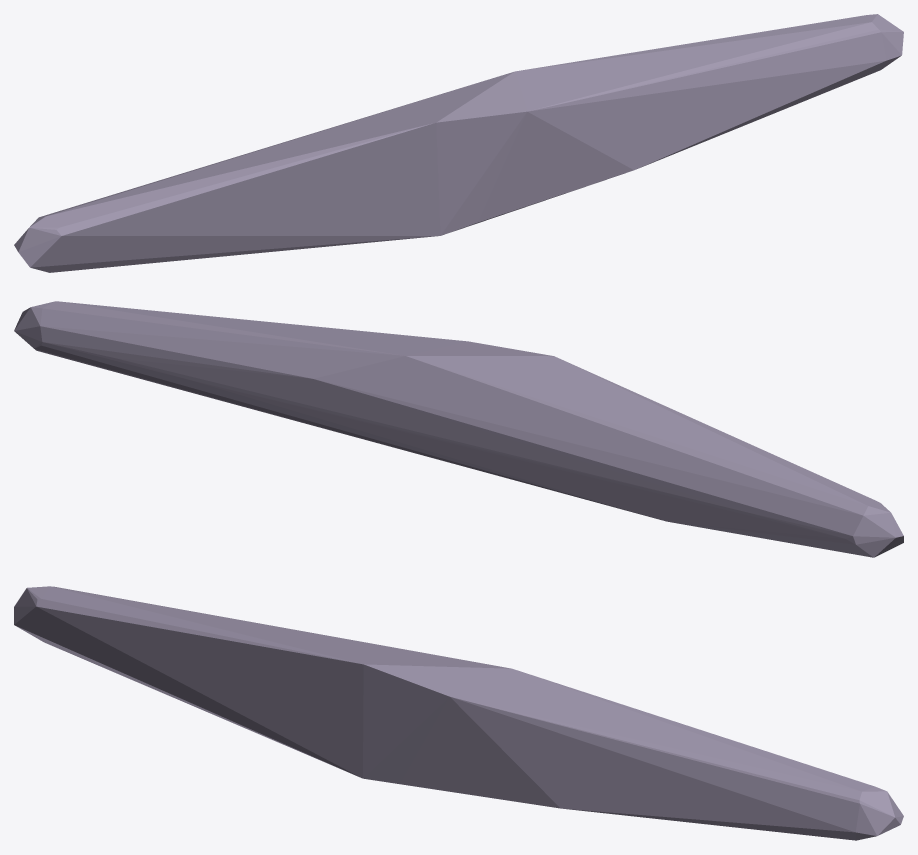
The model's file is handTool_wrench_tap_a01.glb.
3 renders of one model, top to bottom at view 1: azimuth 30°, elevation 25°; view 2: azimuth 150°, elevation 25°; view 3: azimuth 330°, elevation 25°, orthographic.
Visible parts, largest first — view 1: geometry_0; view 2: geometry_0; view 3: geometry_0.
Part boxes in pixels (left/top/right/bottom): geometry_0: left=14, top=14, right=903, bottom=272; geometry_0: left=14, top=301, right=903, bottom=557; geometry_0: left=14, top=586, right=903, bottom=840.
Size of the model in its own units: 0.4799 by 0.0579 by 0.0494.
